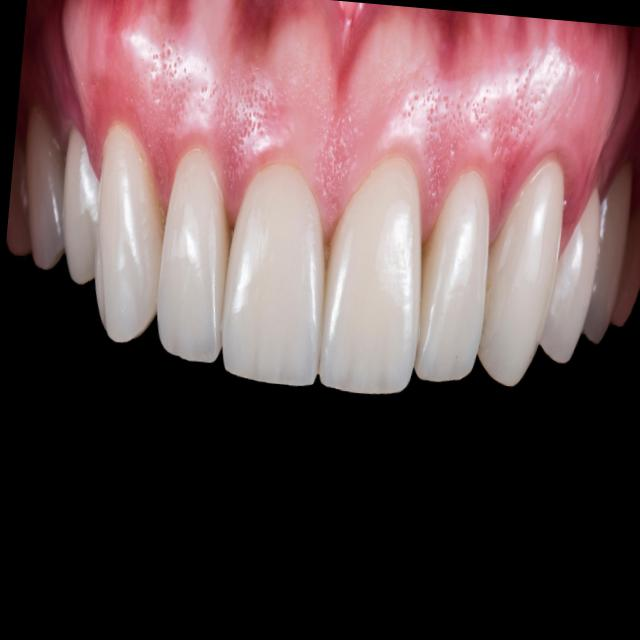Tooth: (319, 157, 421, 394), (222, 164, 325, 386), (477, 160, 563, 387), (413, 171, 489, 382), (157, 149, 231, 361), (94, 126, 163, 342), (539, 184, 600, 364), (583, 161, 632, 344), (26, 107, 64, 269), (63, 129, 99, 283)
